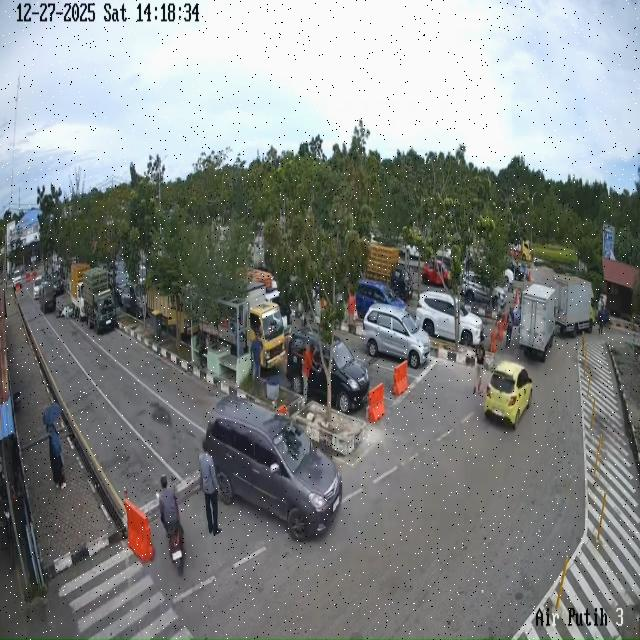Golongan IVA: (205, 397, 342, 541), (286, 327, 370, 414), (362, 304, 430, 369), (416, 291, 484, 346), (484, 361, 532, 430), (356, 279, 406, 318), (462, 271, 506, 309), (33, 276, 42, 299)
Golongan IVB: (83, 267, 116, 334), (70, 263, 90, 321), (39, 276, 56, 314)
Golongan VB: (519, 284, 556, 362), (553, 275, 595, 337)
